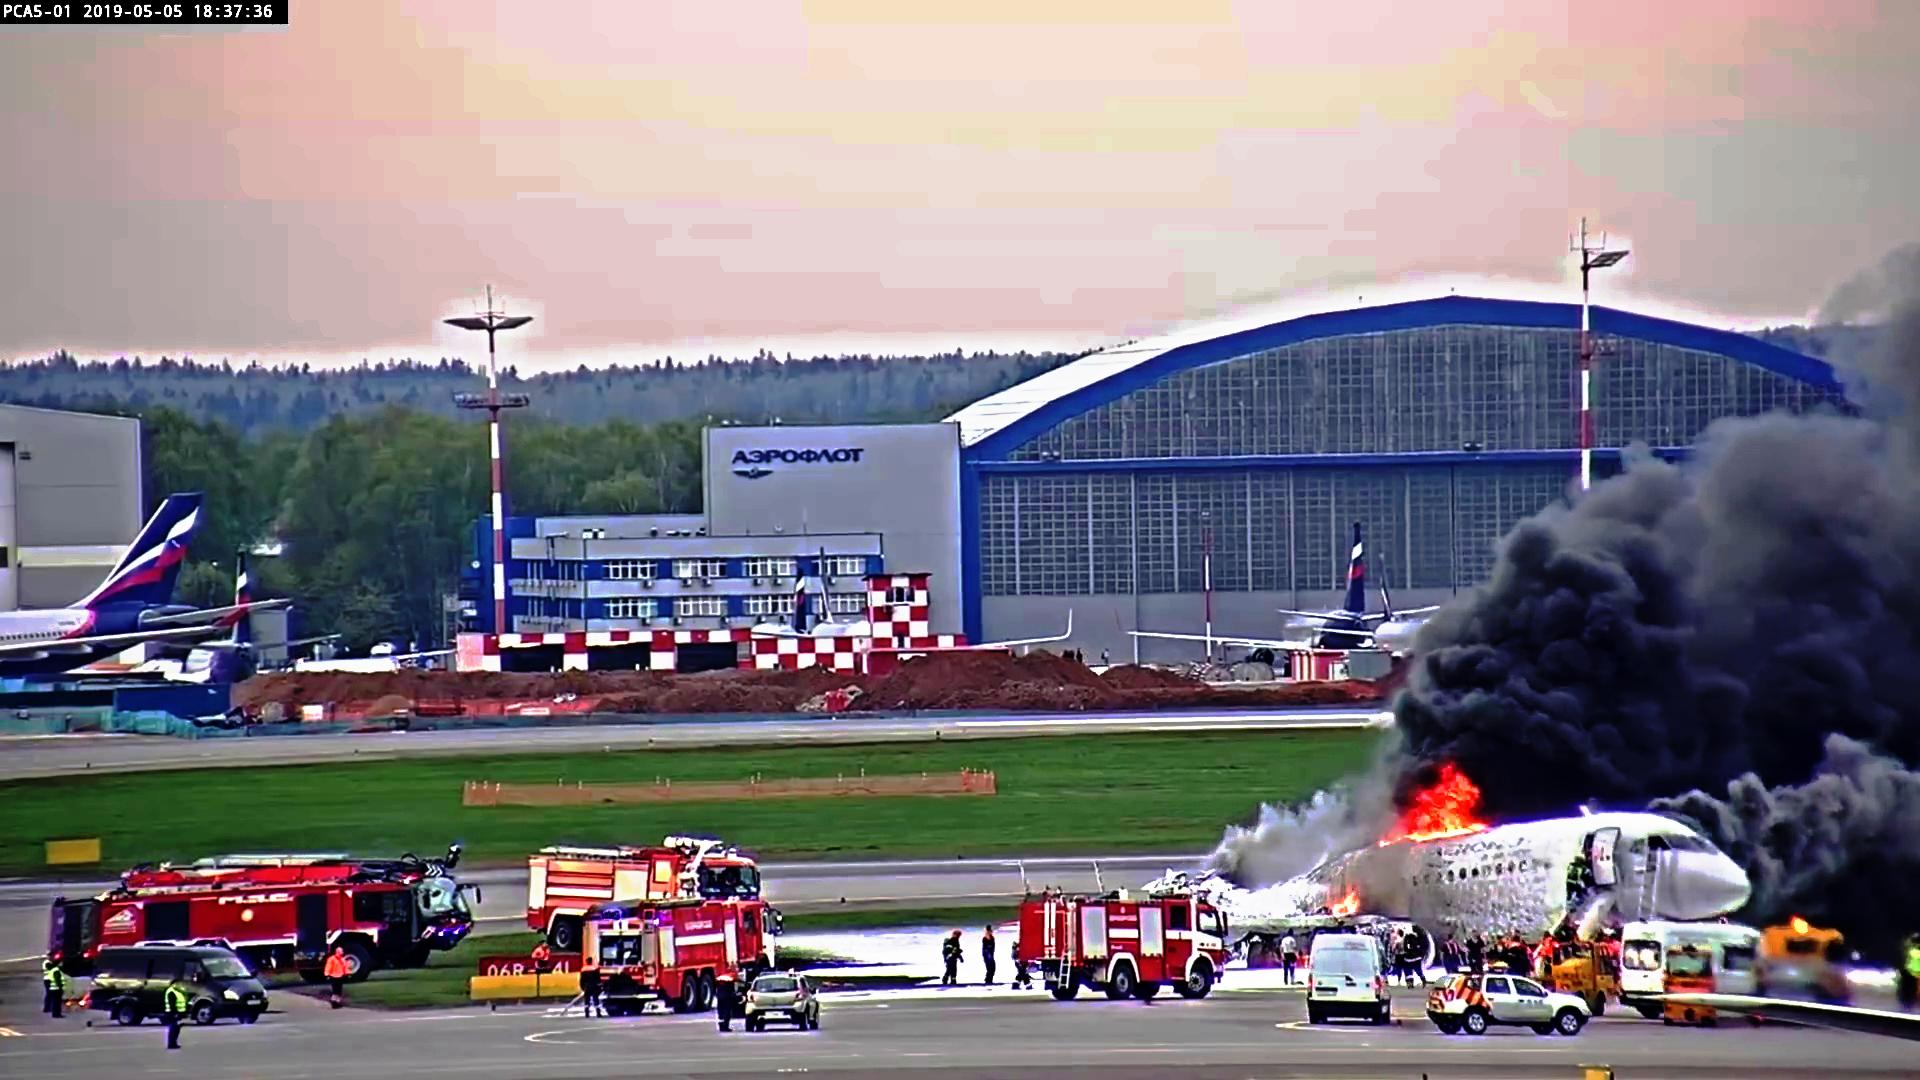fire: (1386, 758, 1477, 839)
smoke: (1702, 433, 1920, 785), (1490, 563, 1698, 804)
